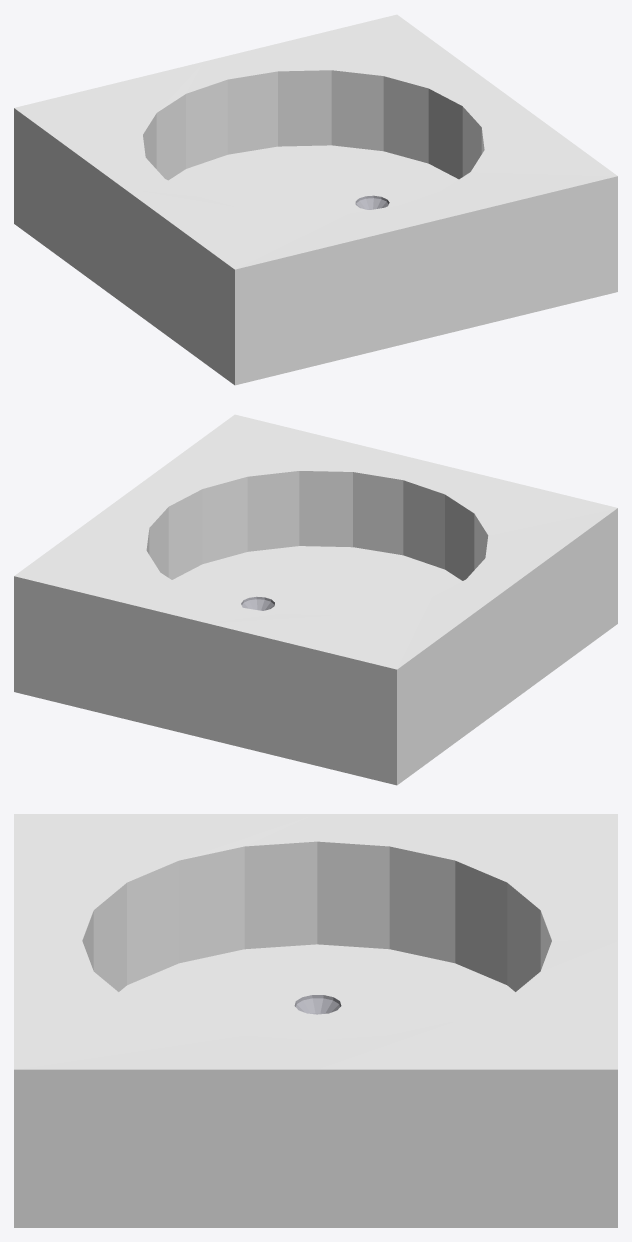
The model's file is socket_v01.fbx.
The picture shows the model from 3 angles, top to bottom: view 1: azimuth 30°, elevation 25°; view 2: azimuth 150°, elevation 25°; view 3: azimuth 270°, elevation 25°; orthographic projection. The views are drawn at different scales.
Parts seen in each view (by area): view 1: Socket1; view 2: Socket1; view 3: Socket1.
Boxes of the visible parts, <box> form: Socket1: <box>14,14,617,385</box>; Socket1: <box>14,414,617,785</box>; Socket1: <box>14,814,617,1227</box>.
Bounding box in the file's own units: 6.12 × 1.77 × 6.11.
